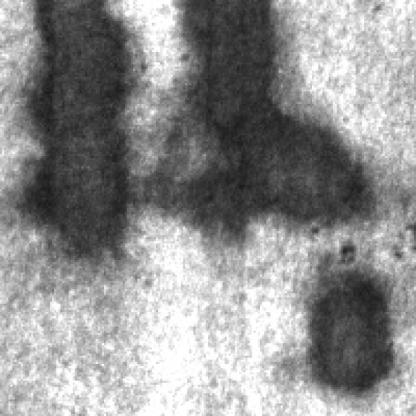patches: (154, 0, 366, 229), (15, 0, 131, 252), (300, 241, 393, 387)
